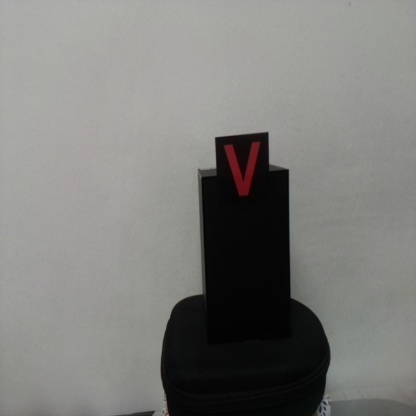id_11: (216, 137, 270, 210)
